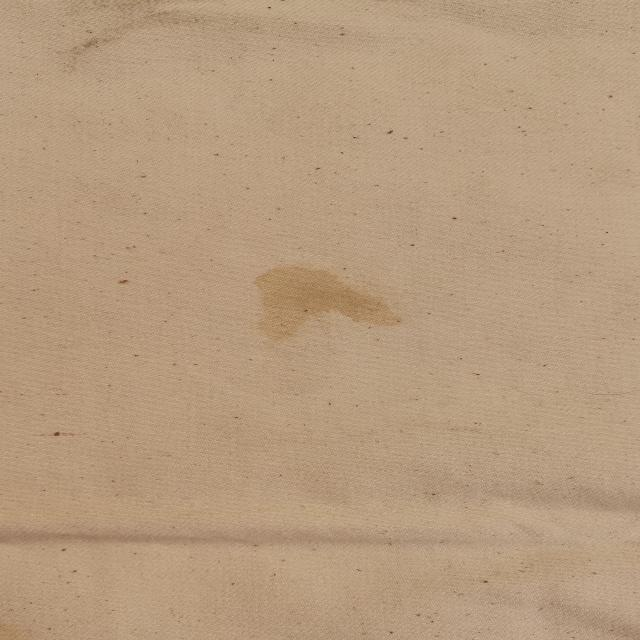taaaches: (201, 255, 423, 352), (0, 597, 171, 640)
